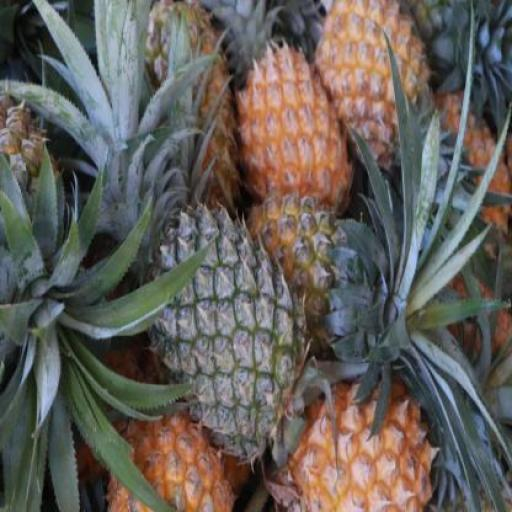Pineapple - v8 v1: (282, 370, 436, 511), (234, 43, 348, 224), (318, 0, 432, 176)
